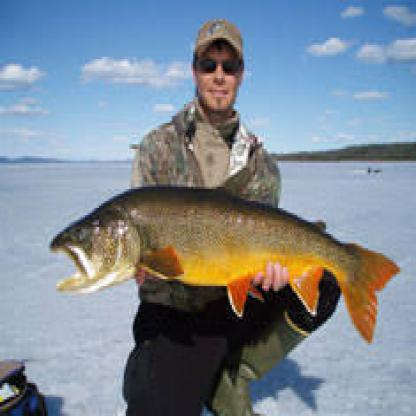fish: (53, 162, 394, 338)
